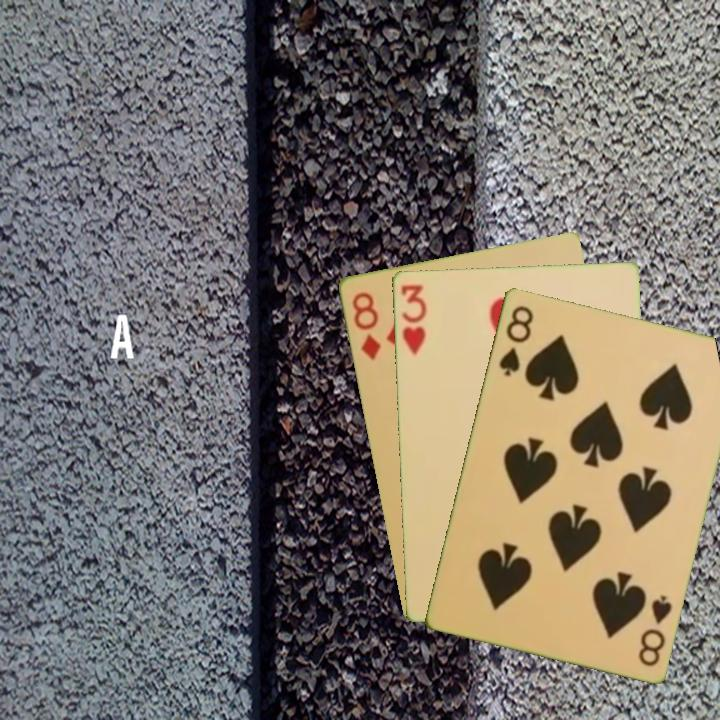3h: (397, 280, 429, 357)
8d: (348, 288, 384, 363)
8s: (495, 301, 536, 379), (634, 591, 675, 669)
